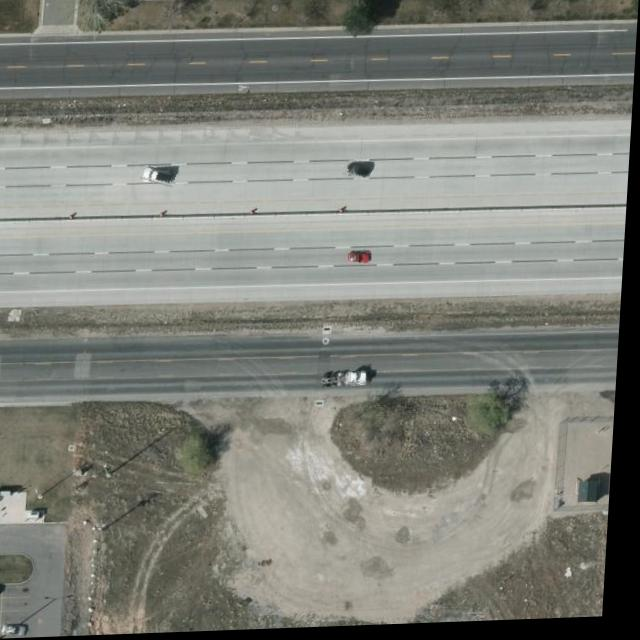vehicle: (327, 374, 376, 390), (143, 169, 178, 188), (346, 163, 375, 183), (350, 252, 376, 267), (9, 624, 38, 637), (0, 584, 11, 596)
